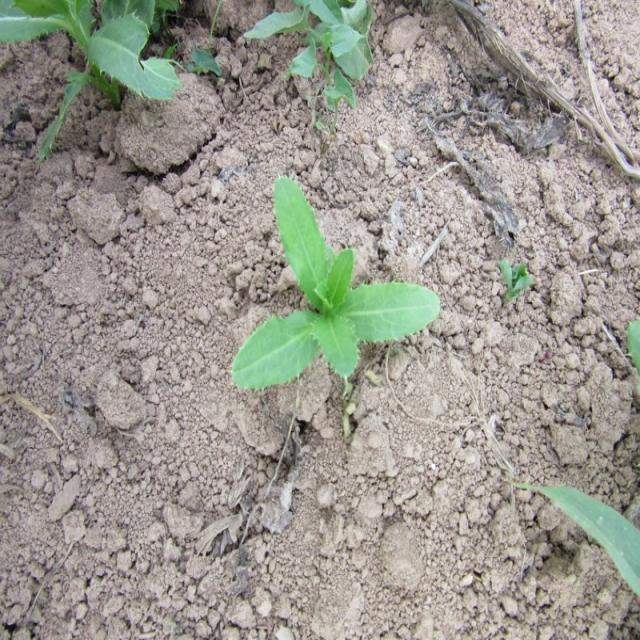cs: (227, 169, 445, 397)
